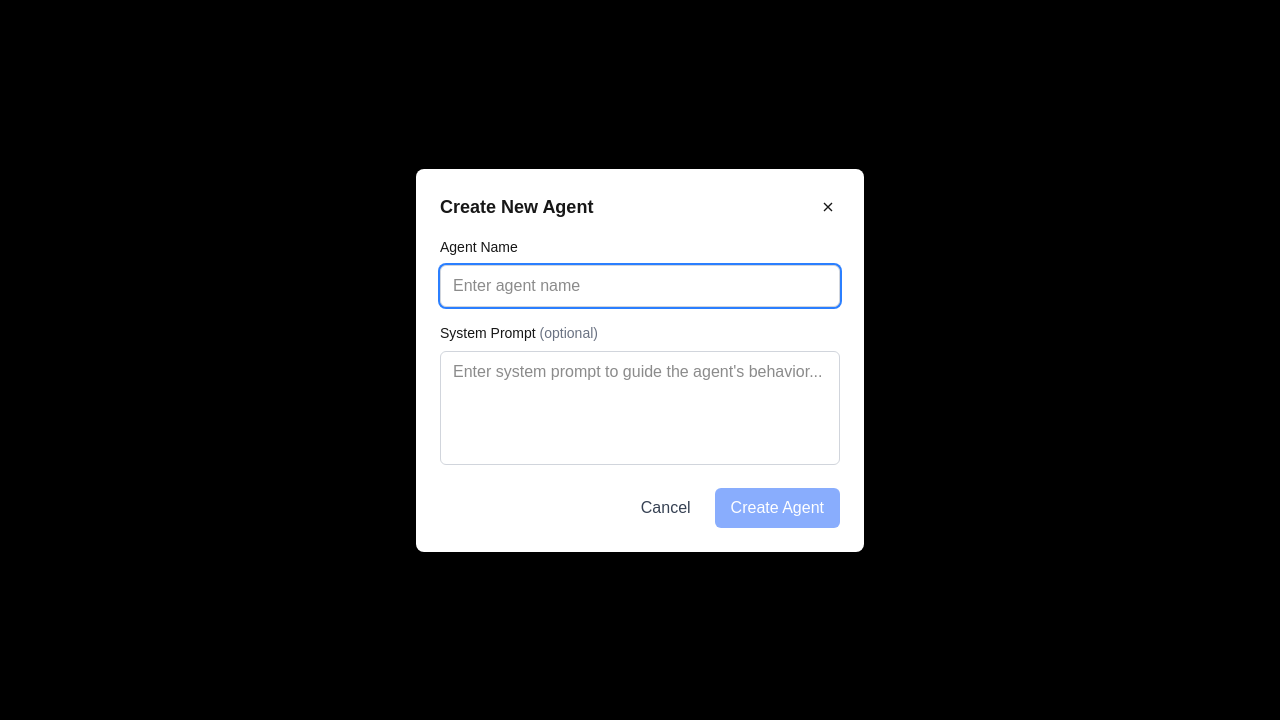
Test: CreateAgentModal › Button States › create button is enabled with name even if system prompt is empty
In the field labelled "Agent Name": (640, 286) [440, 264, 840, 306], type "Test Agent"
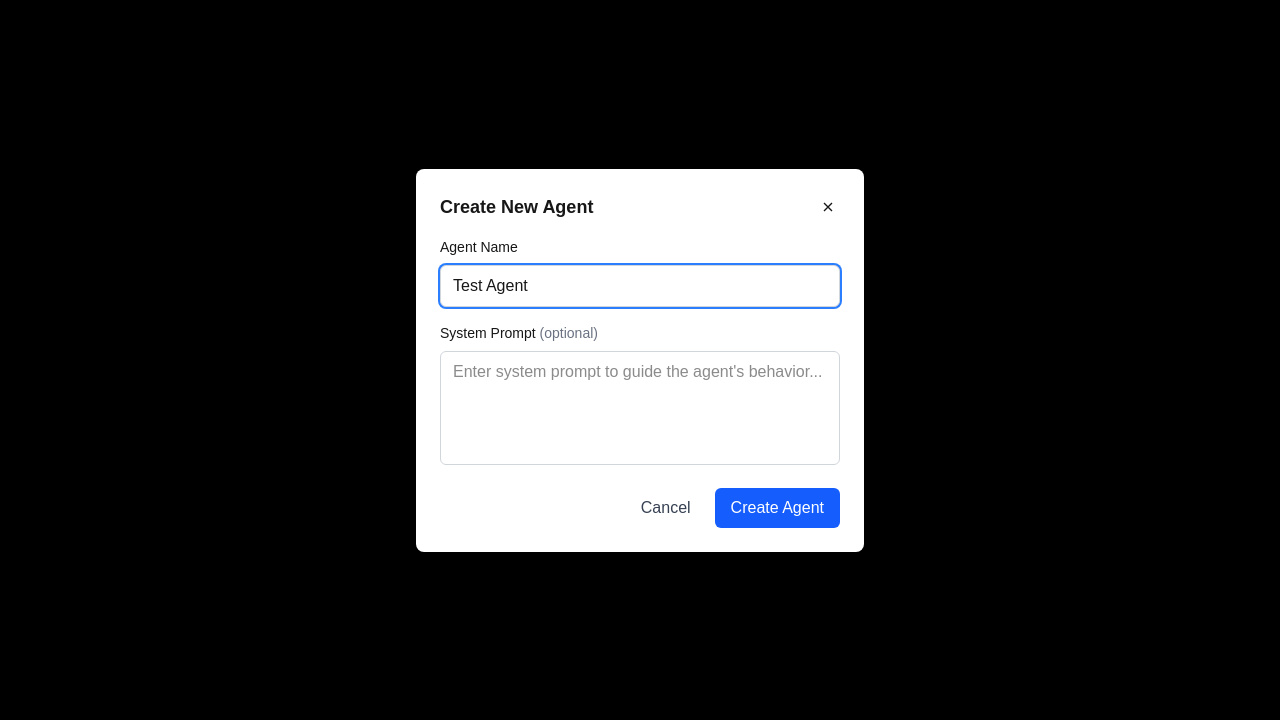
expect the button "Create Agent" is enabled: met, box [715, 488, 840, 528]
